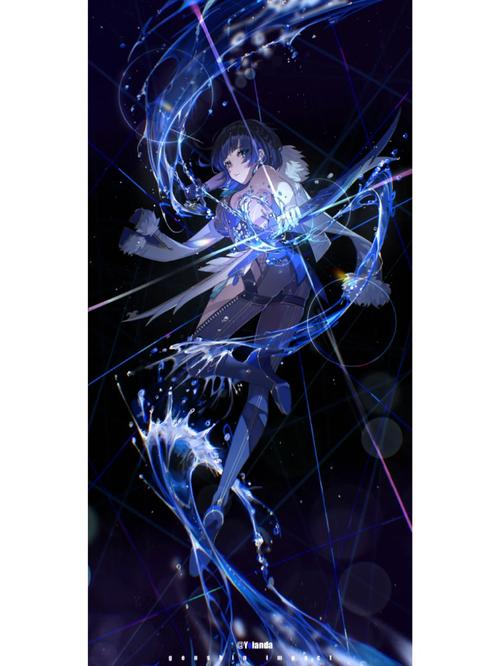夜兰: (156, 127, 341, 584)
